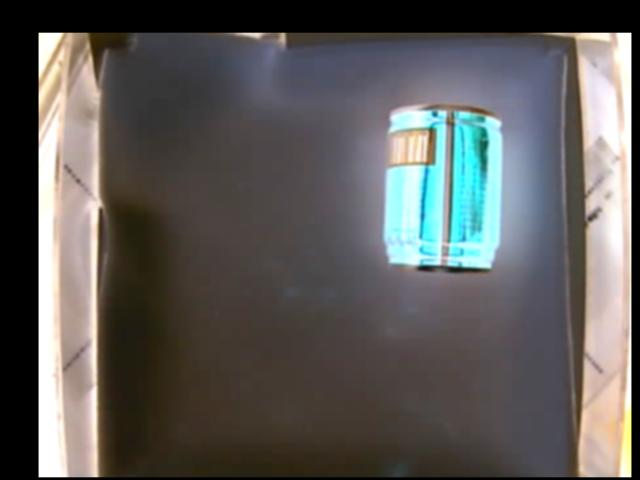Bottle: (385, 104, 503, 272)
